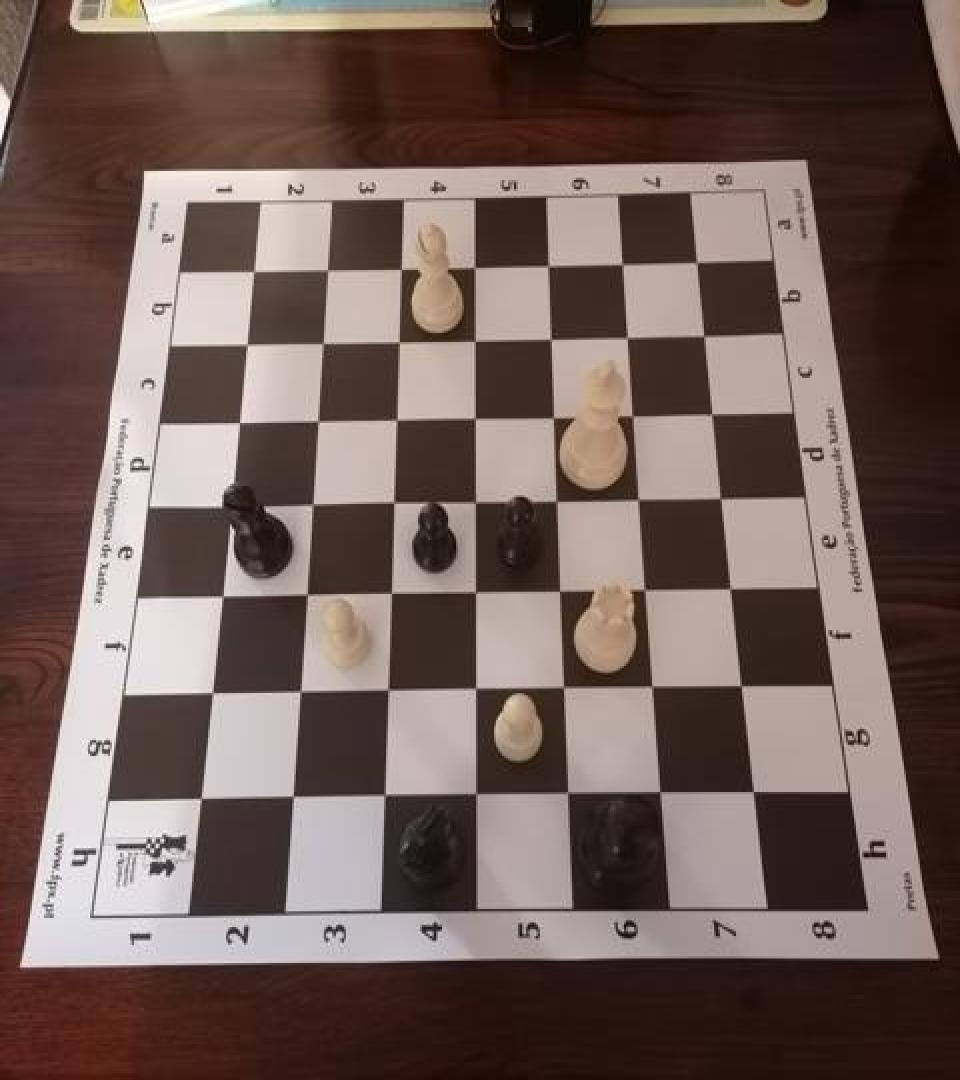xcorner: (634, 571, 666, 608), (548, 572, 580, 609), (641, 669, 673, 706), (556, 777, 588, 814), (463, 778, 495, 815), (684, 242, 716, 278), (609, 243, 641, 279), (535, 244, 567, 280), (461, 246, 493, 282), (386, 248, 418, 284), (312, 248, 344, 284), (238, 250, 270, 286), (692, 315, 724, 351), (615, 316, 647, 352), (538, 318, 570, 354), (461, 320, 493, 356), (384, 320, 416, 356), (308, 322, 340, 358), (231, 323, 263, 359), (700, 394, 732, 430), (621, 395, 653, 431), (541, 397, 573, 433), (461, 398, 493, 434), (382, 400, 414, 436), (302, 400, 334, 436), (223, 402, 255, 438), (710, 479, 742, 515), (627, 480, 659, 516), (544, 482, 576, 518), (462, 482, 494, 518), (379, 484, 411, 520), (297, 485, 329, 521), (215, 486, 247, 522), (720, 569, 752, 605), (462, 574, 494, 610), (376, 575, 408, 611), (291, 576, 323, 612), (206, 577, 238, 613), (730, 668, 762, 704), (552, 670, 584, 706), (462, 672, 494, 708), (373, 673, 405, 709), (285, 674, 317, 710), (196, 675, 228, 711), (742, 775, 774, 811), (649, 776, 681, 812), (370, 780, 402, 816), (278, 781, 310, 817), (185, 782, 217, 818)
